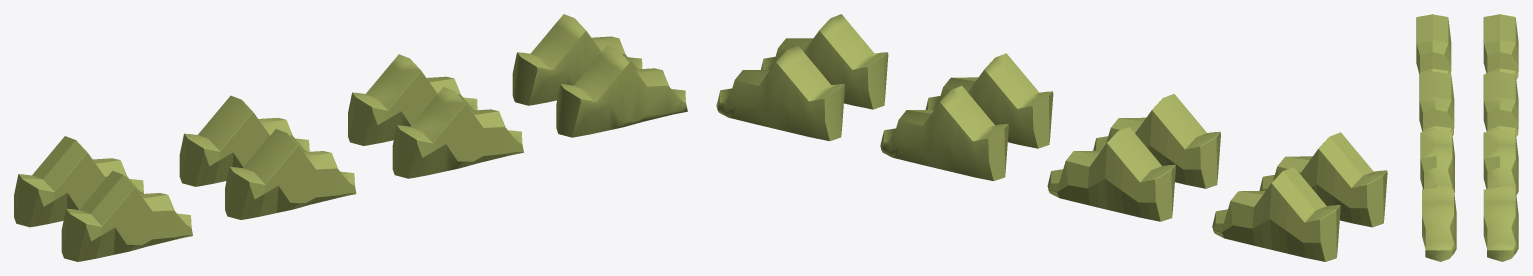
Rendered from GrassAllFBX.fbx.
3 views of the same model, side by side, from view 1: azimuth 30°, elevation 25°; view 2: azimuth 150°, elevation 25°; view 3: azimuth 270°, elevation 25° (orthographic). The views are drawn at different scales.
Parts seen in each view (by area): view 1: pCube12, pCube13, pCube9, pCube10, pCube8, pCube6, pCube7, pCube11; view 2: pCube11, pCube7, pCube6, pCube8, pCube9, pCube10, pCube12, pCube13; view 3: pCube11, pCube13, pCube6, pCube10, pCube8, pCube7, pCube9, pCube12.
Part boxes in pixels (x1,y1,x2,y2): pCube12: (392, 87, 523, 178); pCube13: (556, 46, 687, 137); pCube9: (61, 170, 192, 261); pCube10: (225, 128, 356, 219); pCube8: (14, 136, 143, 227); pCube6: (179, 95, 309, 186); pCube7: (348, 54, 477, 145); pCube11: (512, 14, 642, 105); pCube11: (716, 45, 844, 141); pCube7: (880, 86, 1008, 181); pCube6: (1047, 127, 1175, 221); pCube8: (1212, 167, 1340, 261); pCube9: (1259, 132, 1387, 227); pCube10: (1093, 94, 1220, 188); pCube12: (925, 53, 1053, 148); pCube13: (761, 14, 888, 109); pCube11: (1483, 186, 1518, 261); pCube13: (1422, 186, 1456, 261); pCube6: (1483, 71, 1518, 136); pCube10: (1419, 71, 1454, 135); pCube8: (1483, 14, 1518, 79); pCube7: (1483, 129, 1518, 194); pCube9: (1416, 14, 1451, 74); pCube12: (1420, 129, 1454, 192).
Size of the model in its own units: 10.81 by 1.2 by 2.15.
